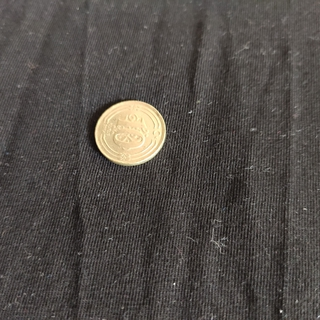10KURUS: (93, 98, 166, 167)
